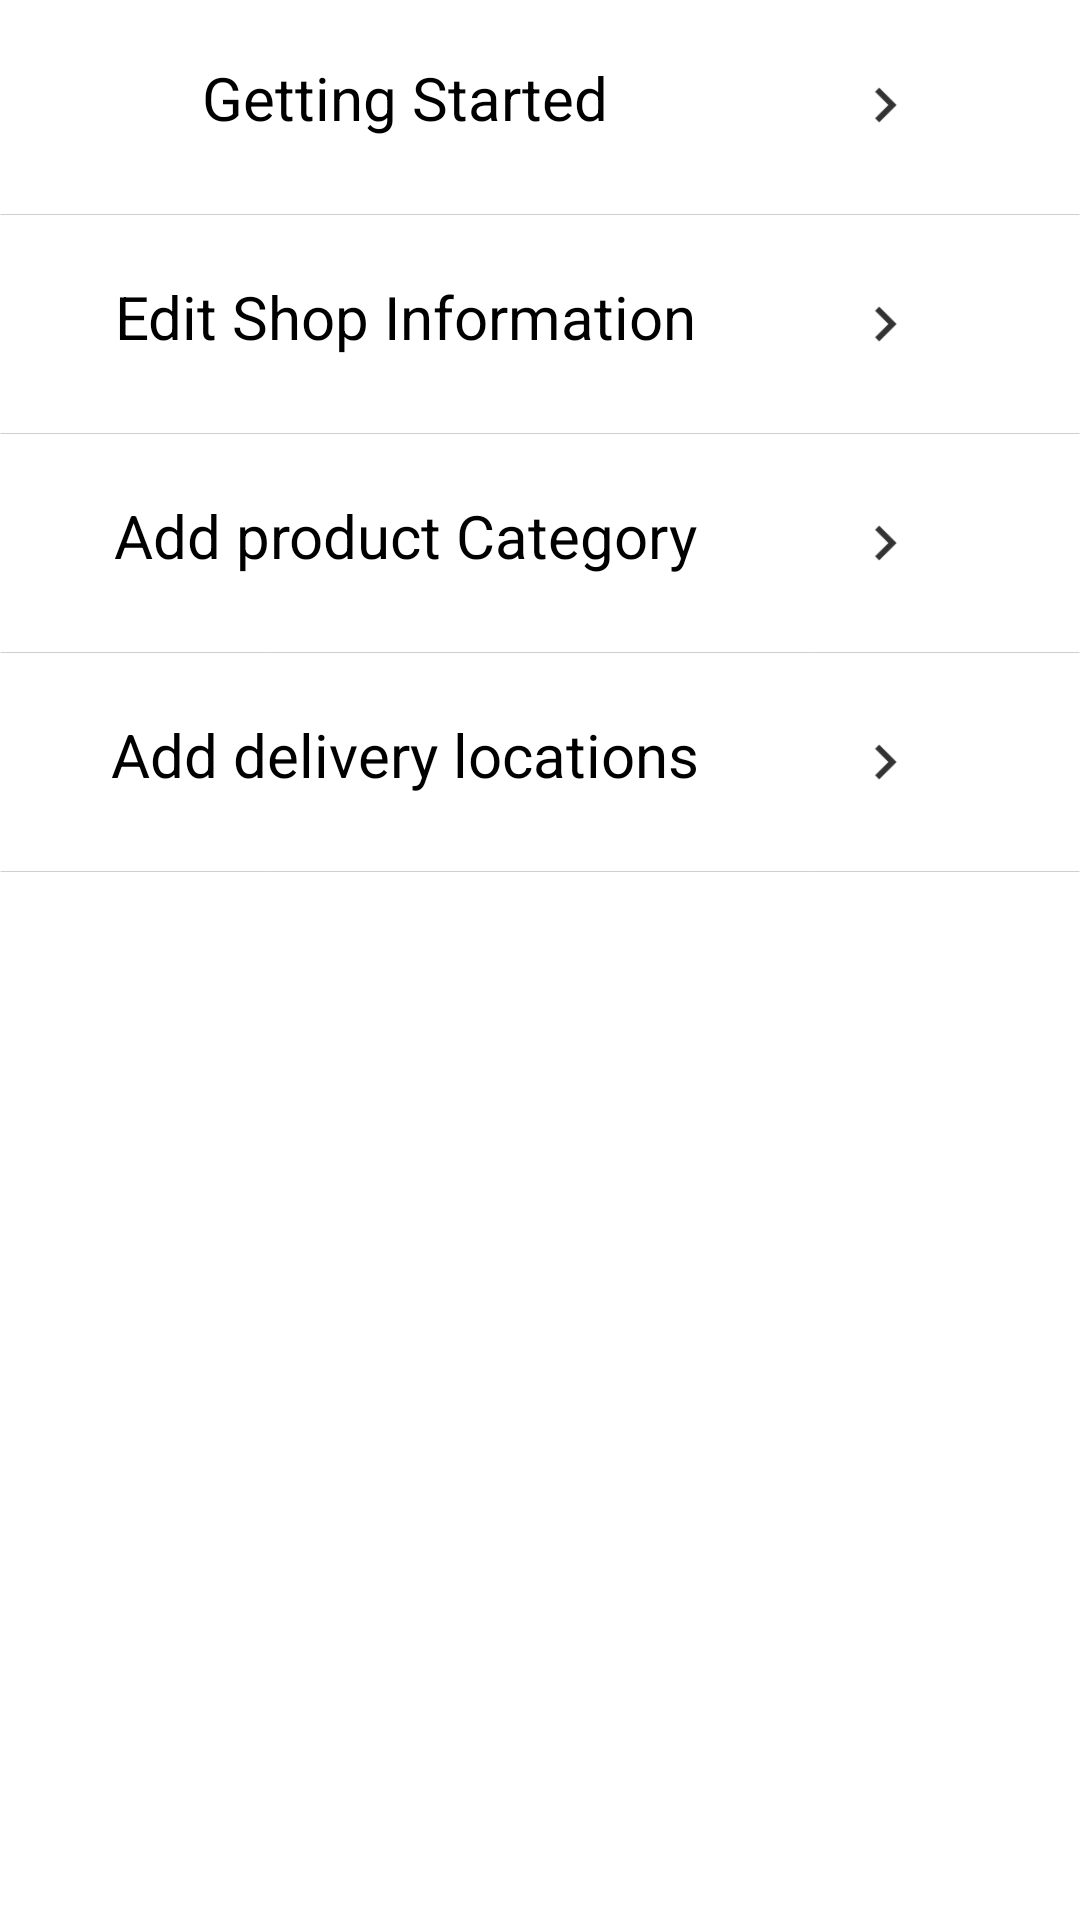

Screen size 1080px x 1920px. Icon name, then its box in pixels as (x1, y1, x2, y2):
fronticon: (875, 88, 897, 122), (875, 307, 897, 341), (875, 526, 897, 560), (875, 745, 897, 779)
